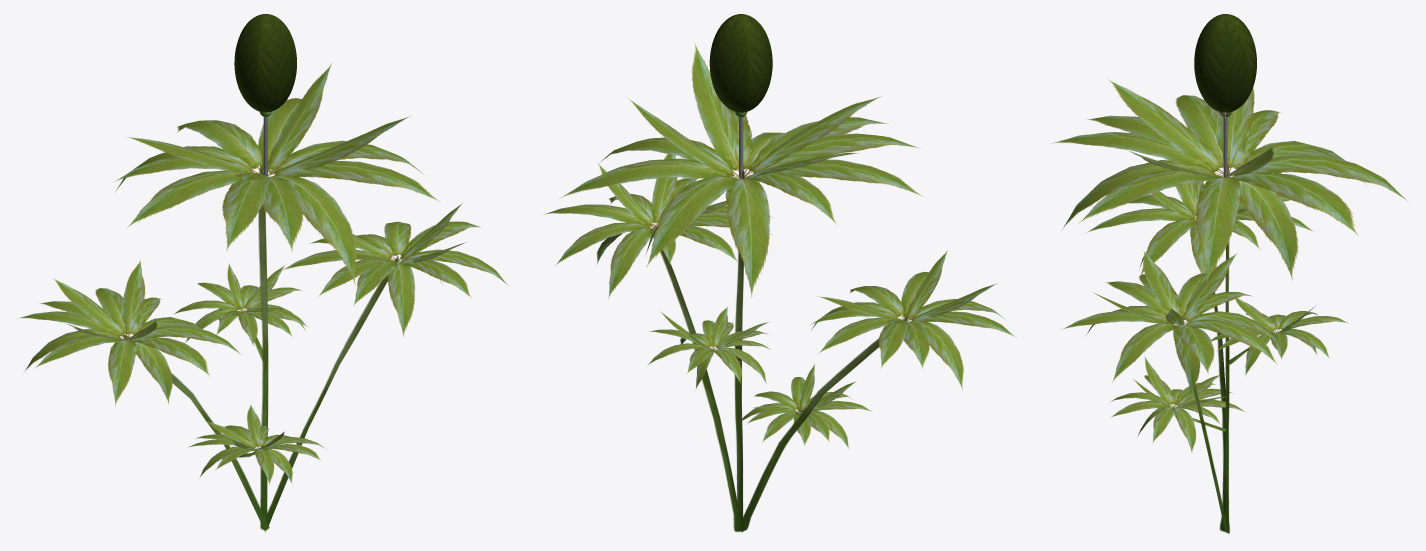
Rendered from PlantGfBloom.glb.
3 renders of one model, left to right at view 1: azimuth 30°, elevation 25°; view 2: azimuth 150°, elevation 25°; view 3: azimuth 270°, elevation 25°, orthographic.
Visible parts, largest first — view 1: Plane128_Material #31_0, Sepal_2, Sepal_3; view 2: Plane128_Material #31_0, Sepal_0, Sepal_3; view 3: Plane128_Material #31_0, Sepal_1, Sepal_2, Sepal_0.
Boxes of the visible parts, bbox=[...] form: Plane128_Material #31_0: bbox=[19, 62, 508, 532]; Sepal_2: bbox=[257, 16, 296, 112]; Sepal_3: bbox=[234, 15, 265, 112]; Plane128_Material #31_0: bbox=[544, 43, 1016, 532]; Sepal_0: bbox=[711, 16, 749, 112]; Sepal_3: bbox=[741, 15, 772, 112]; Plane128_Material #31_0: bbox=[1053, 79, 1408, 533]; Sepal_1: bbox=[1203, 16, 1247, 112]; Sepal_2: bbox=[1194, 15, 1225, 110]; Sepal_0: bbox=[1226, 15, 1256, 108].
Bounding box in the file's own units: 5.12 × 5.44 × 3.47.
Materials: 5 (4 with a texture image).
